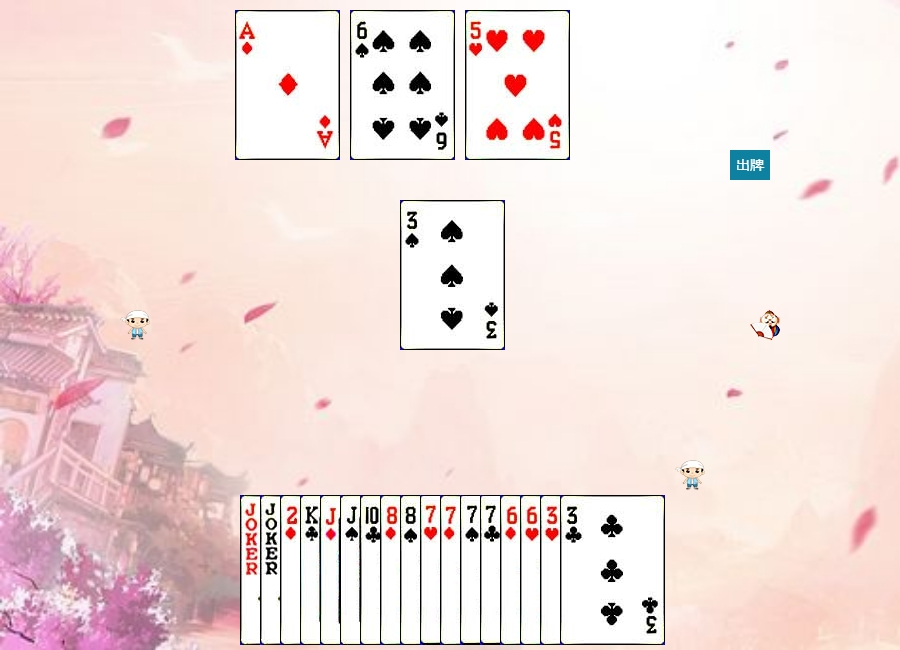10~2: (360, 495, 465, 645)
11~1: (320, 495, 425, 645)
11~4: (340, 495, 445, 645)
13~2: (300, 495, 405, 645)
14~1: (235, 10, 340, 160)
15~1: (280, 495, 385, 645)
17~3: (260, 495, 365, 645)
18~4: (240, 495, 345, 645)
3~2: (560, 495, 665, 645)
3~3: (540, 495, 645, 645)
3~4: (400, 200, 505, 350)
5~3: (465, 10, 570, 160)
6~1: (500, 495, 605, 645)
6~3: (520, 495, 625, 645)
6~4: (350, 10, 455, 160)
7~1: (440, 495, 545, 645)
7~2: (480, 495, 585, 645)
7~3: (420, 495, 525, 645)
7~4: (460, 495, 565, 645)
8~1: (380, 495, 485, 645)
8~4: (400, 495, 505, 645)
